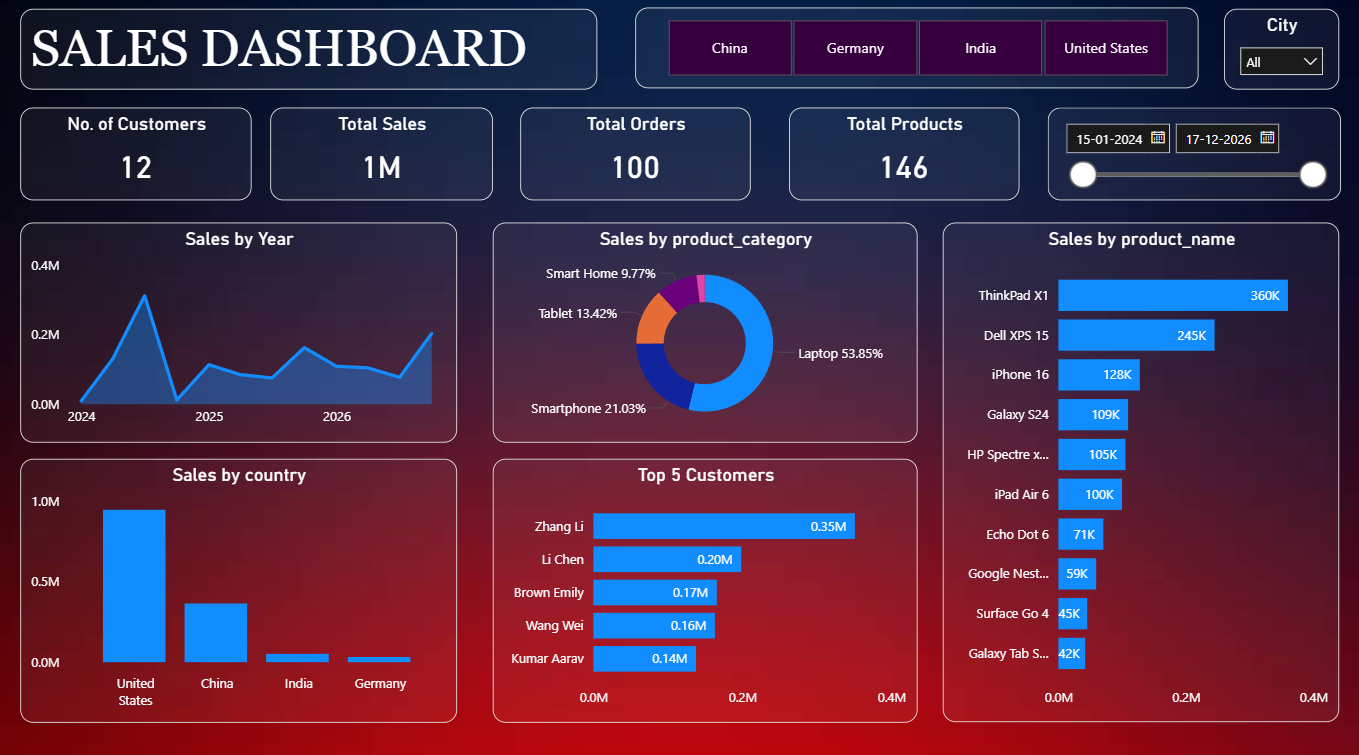

This screenshot's page, from the dashboard's own definition file:
{"tool":"powerbi","page":{"name":"Page 1","canvas":[1280,720],"ordinal":0},"visuals":[{"type":"columnChart","title":"Sales by country","fields":{"Category":["customers.country"],"Y":["Sum(orders.sales)"]},"box":[24.7,436.4,406.2,245.6],"z":0},{"type":"donutChart","title":"Sales by product_category","fields":{"Category":["orders.product_category"],"Y":["Sum(orders.sales)"]},"box":[463.8,216.8,395.2,204.5],"z":1},{"type":"card","title":"No. of Customers","fields":{"Values":["Count(orders.customer_id)"]},"box":[24.7,109.8,215.4,86.4],"z":2},{"type":"card","title":"Total Sales","fields":{"Values":["Sum(orders.sales)"]},"box":[256.6,109.8,207.2,86.4],"z":3},{"type":"card","title":"Total Orders","fields":{"Values":["Count(orders.order_id)"]},"box":[489.9,109.8,214.1,86.4],"z":4},{"type":"areaChart","title":"Sales by Year","fields":{"Y":["Sum(orders.sales)"],"Category":["orders.order_date.Variation.Date Hierarchy.Year","orders.order_date.Variation.Date Hierarchy.Quarter","orders.order_date.Variation.Date Hierarchy.Month","orders.order_date.Variation.Date Hierarchy.Day"]},"box":[24.7,216.8,406.2,204.5],"z":5},{"type":"clusteredBarChart","title":"Top 5 Customers","fields":{"Category":["customers.customer_name"],"Y":["Sum(orders.sales)"]},"box":[463.8,436.4,395.2,245.6],"z":6},{"type":"slicer","fields":{"Values":["customers.country"]},"box":[596.9,16.5,524.2,75.5],"z":7},{"type":"slicer","title":"City","fields":{"Values":["customers.city"]},"box":[1144.4,17.8,107,75.5],"z":8},{"type":"card","title":"Total Products","fields":{"Values":["Sum(orders.quantity)"]},"box":[739.6,109.8,214.1,86.4],"z":9},{"type":"clusteredBarChart","title":"Sales by product_name","fields":{"Category":["orders.product_name"],"Y":["Sum(orders.sales)"]},"box":[882.3,216.8,369.1,465.2],"z":10},{"type":"slicer","title":"Order_Date","fields":{"Values":["orders.order_date"]},"box":[979.8,109.8,273.1,86.4],"z":11},{"type":"textbox","box":[24.7,17.8,536.5,75.5],"z":12}]}

Visuals, with their boxes in screenshot pixels (x1, y1, x2, y2), scaled from the page's 1280x720 canvas onto the 1359x755 screenshot:
"Sales by country" columnChart: <bbox>26, 458, 457, 715</bbox>
"Sales by product_category" donutChart: <bbox>492, 227, 912, 442</bbox>
"No. of Customers" card: <bbox>26, 115, 255, 206</bbox>
"Total Sales" card: <bbox>272, 115, 492, 206</bbox>
"Total Orders" card: <bbox>520, 115, 747, 206</bbox>
"Sales by Year" areaChart: <bbox>26, 227, 457, 442</bbox>
"Top 5 Customers" clusteredBarChart: <bbox>492, 458, 912, 715</bbox>
slicer - customers.country: <bbox>634, 17, 1190, 96</bbox>
"City" slicer: <bbox>1215, 19, 1329, 98</bbox>
"Total Products" card: <bbox>785, 115, 1013, 206</bbox>
"Sales by product_name" clusteredBarChart: <bbox>937, 227, 1329, 715</bbox>
"Order_Date" slicer: <bbox>1040, 115, 1330, 206</bbox>
textbox: <bbox>26, 19, 596, 98</bbox>
